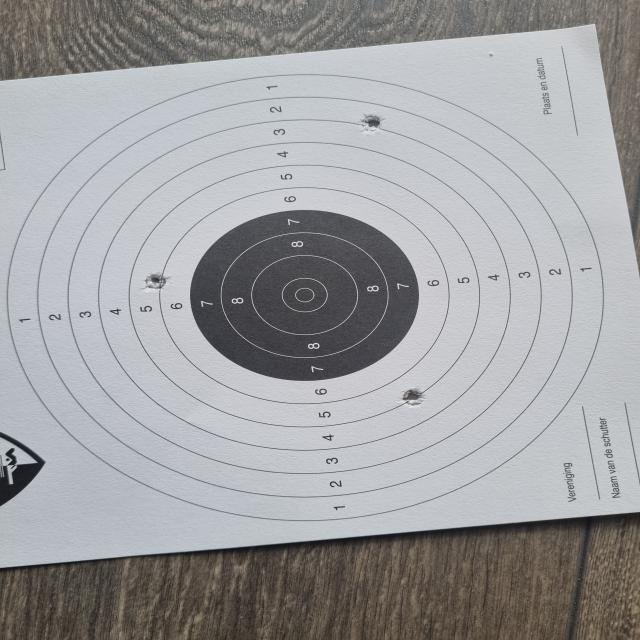4: (358, 114, 387, 136)
6: (399, 388, 429, 406)
7: (140, 272, 168, 290)
Black Contour: (190, 209, 420, 382)
Target: (7, 72, 605, 522)
